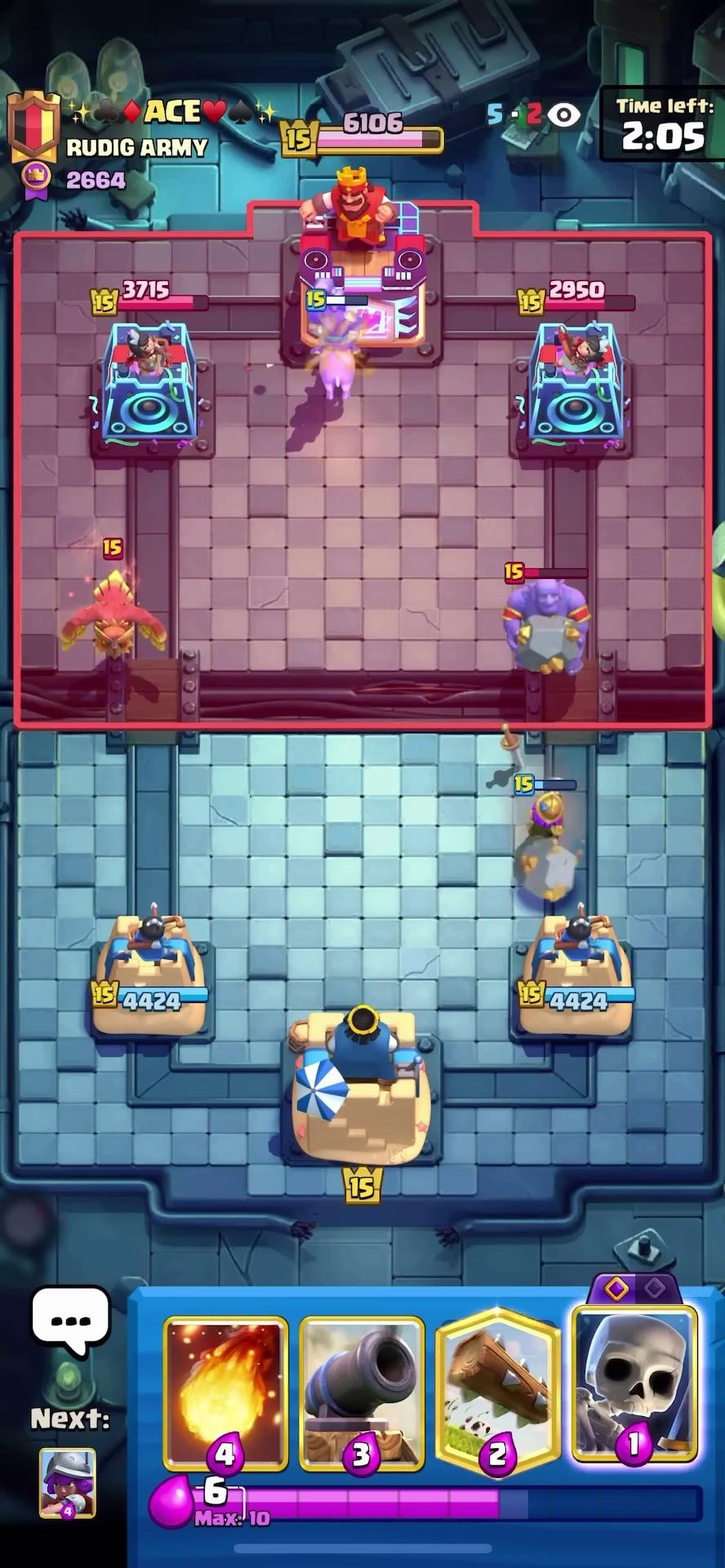musketeer: (516, 772, 578, 853)
